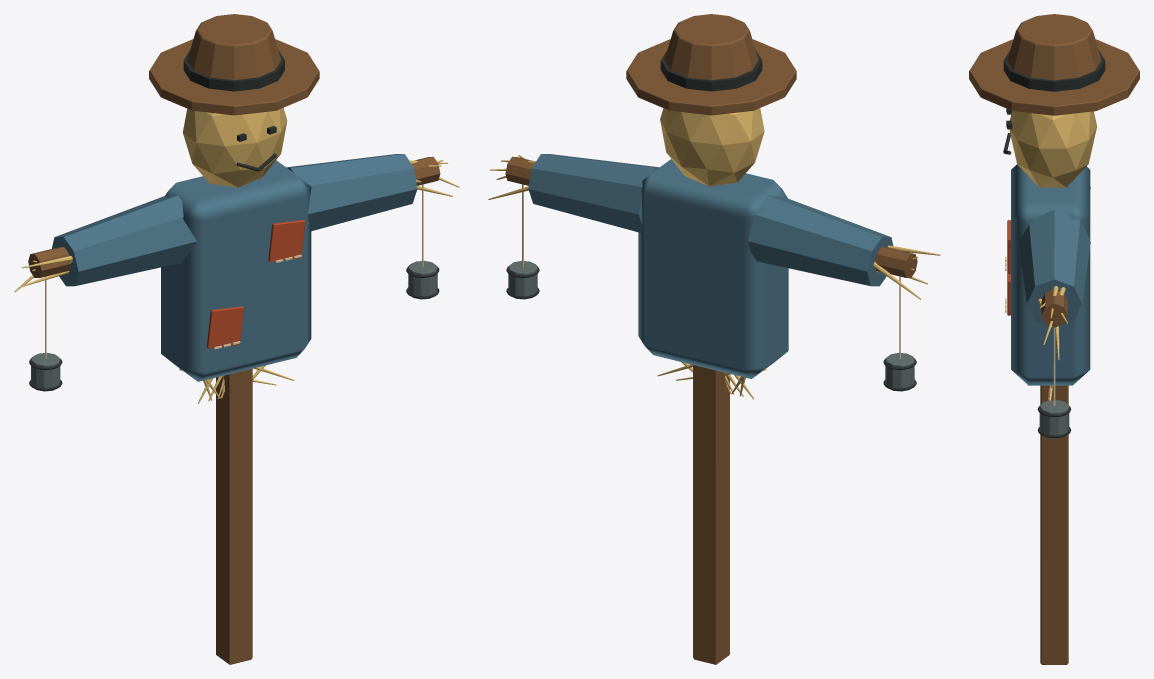
Rendered from Scarecrow.glb.
3 views of the same model, side by side, from view 1: azimuth 30°, elevation 25°; view 2: azimuth 150°, elevation 25°; view 3: azimuth 270°, elevation 25° (orthographic).
Visible parts, largest first — view 1: Scarecrow; view 2: Scarecrow; view 3: Scarecrow.
Boxes of the visible parts, x1,y1,x2,y2 form: Scarecrow: [14, 14, 459, 664]; Scarecrow: [488, 14, 940, 664]; Scarecrow: [969, 14, 1139, 664].
Bounding box in the file's own units: 1.61 × 2.2 × 0.54.
